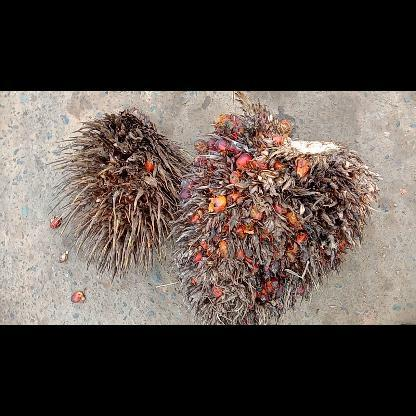Janjang kosong: (46, 109, 194, 283)
Terlalu masak: (166, 90, 380, 324)
